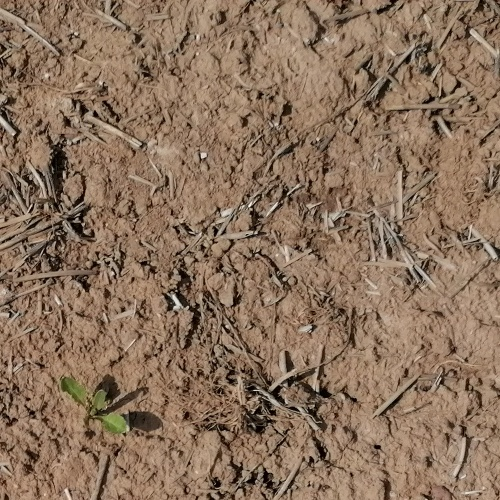beet: (59, 375, 128, 433)
